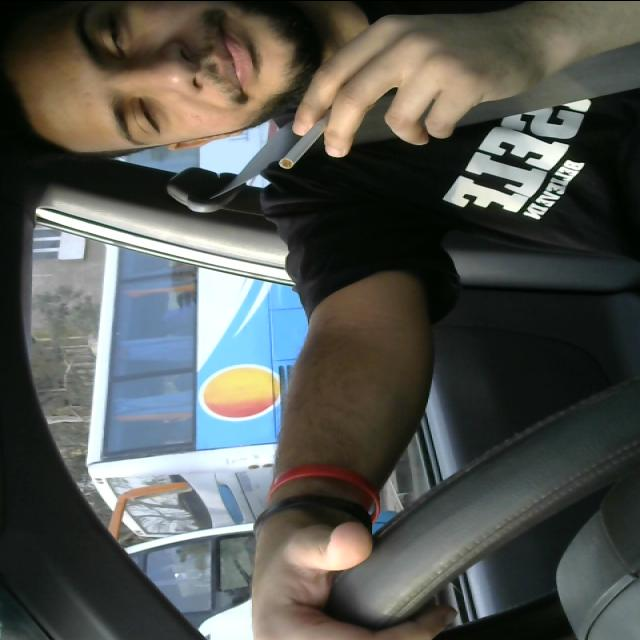smoking: (276, 103, 344, 169)
